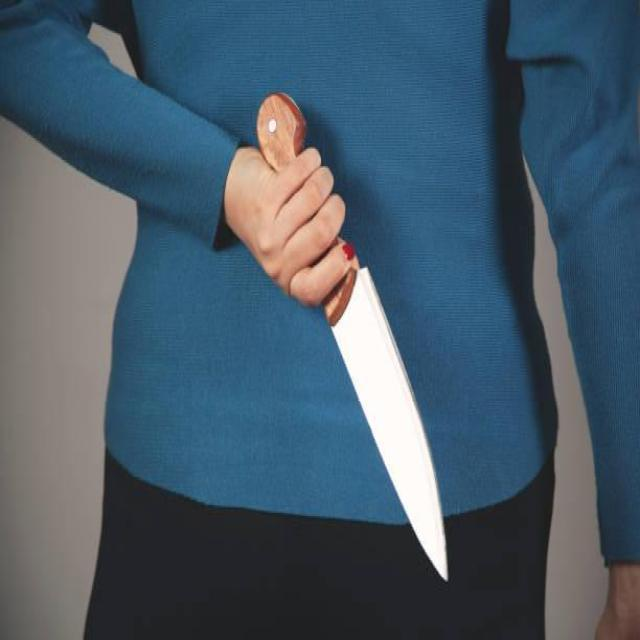faca: (234, 80, 453, 602)
